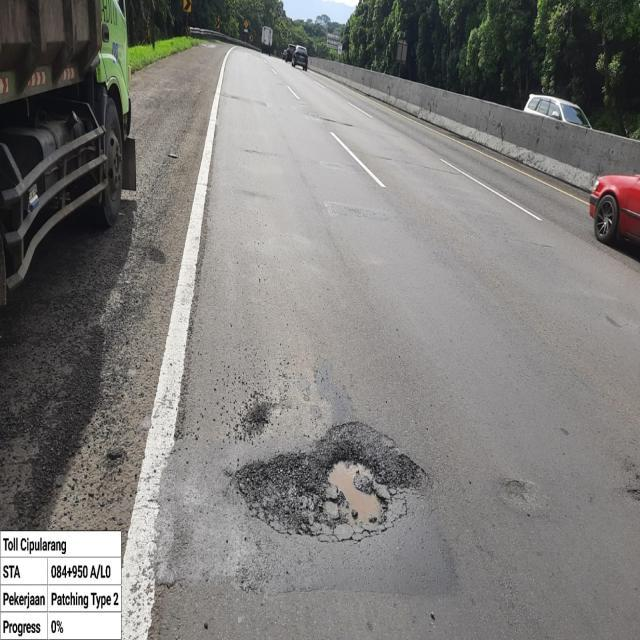Buraco: (230, 418, 432, 544)
